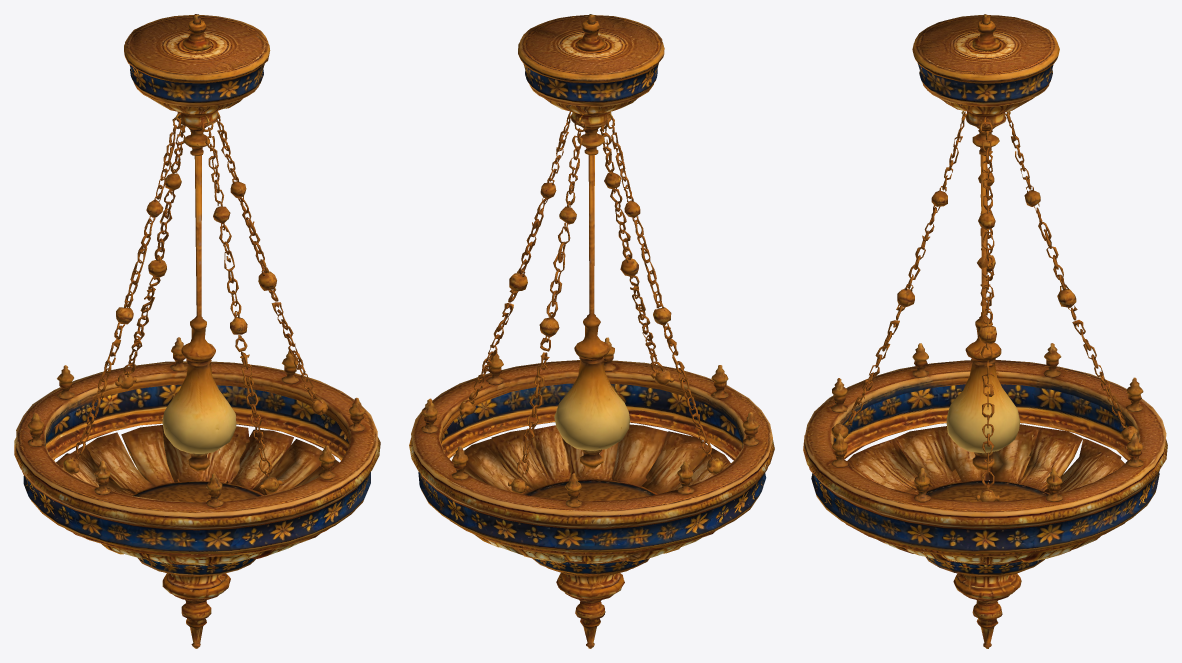
File: ثريا المجلس .glb
The picture shows the model from 3 angles, left to right: view 1: azimuth 30°, elevation 25°; view 2: azimuth 150°, elevation 25°; view 3: azimuth 270°, elevation 25°; orthographic projection.
Visible parts, largest first — view 1: tripo_node_a335a137-60b3-48ab-8aac-8f6d54fdfa50; view 2: tripo_node_a335a137-60b3-48ab-8aac-8f6d54fdfa50; view 3: tripo_node_a335a137-60b3-48ab-8aac-8f6d54fdfa50.
Boxes of the visible parts, x1,y1,x2,y2 form: tripo_node_a335a137-60b3-48ab-8aac-8f6d54fdfa50: (14, 14, 380, 648); tripo_node_a335a137-60b3-48ab-8aac-8f6d54fdfa50: (409, 14, 774, 648); tripo_node_a335a137-60b3-48ab-8aac-8f6d54fdfa50: (803, 14, 1167, 648).
Size of the model in its own units: 0.6271 by 1.2 by 0.627.
Materials: 1 (1 with a texture image).
